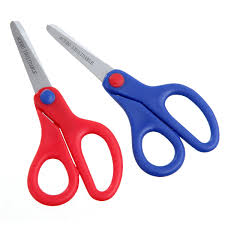tihiras: (3, 17, 125, 205)
